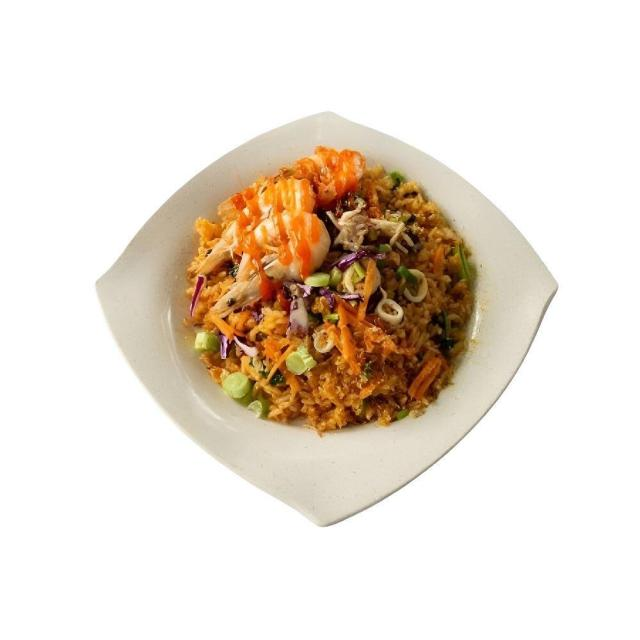Nasi Goreng: (182, 143, 478, 436)
